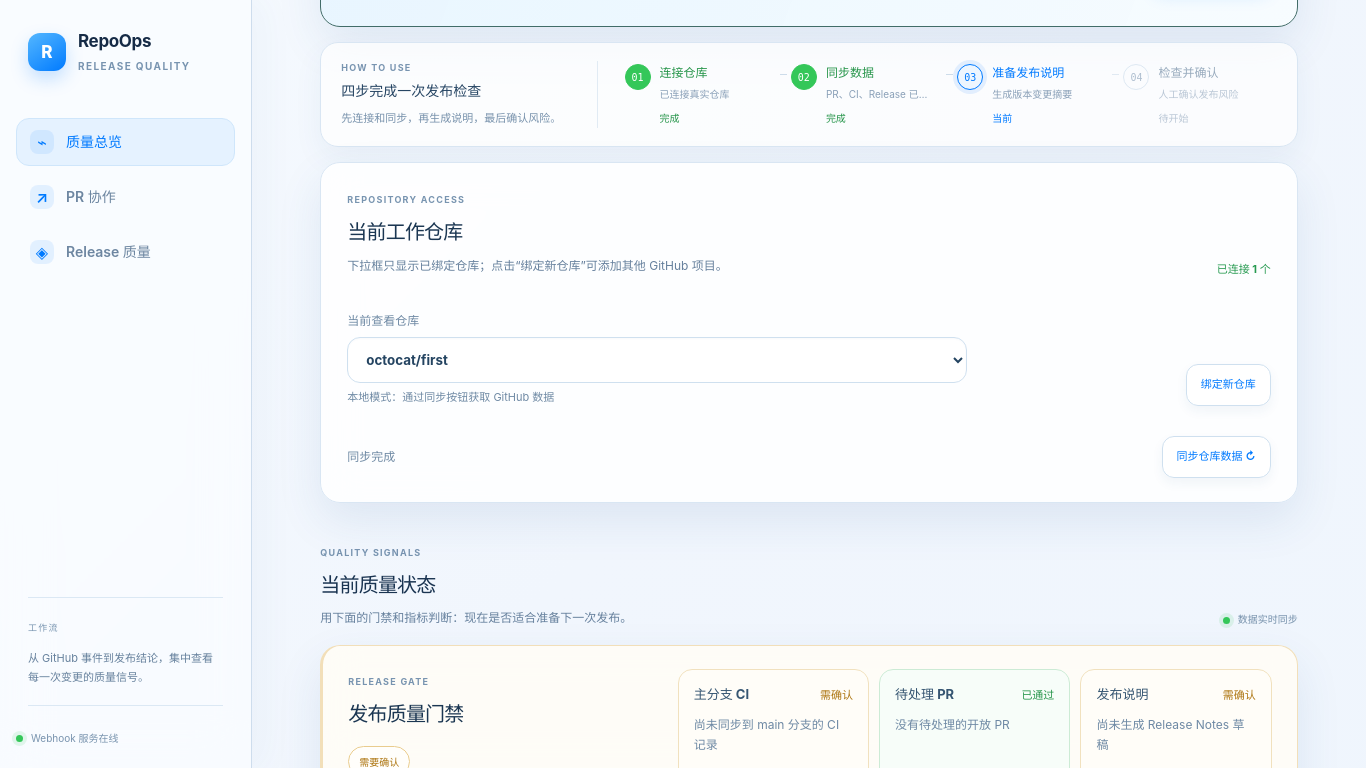
Test case: RepoOps app shell › opens the picker and binds an additional repository without losing the current list
This screenshot has width=1366, height=768.
(page scrolled)
Click the button with test id "bind-new-repository" at coordinates (1228, 385), box [1186,364,1271,406]
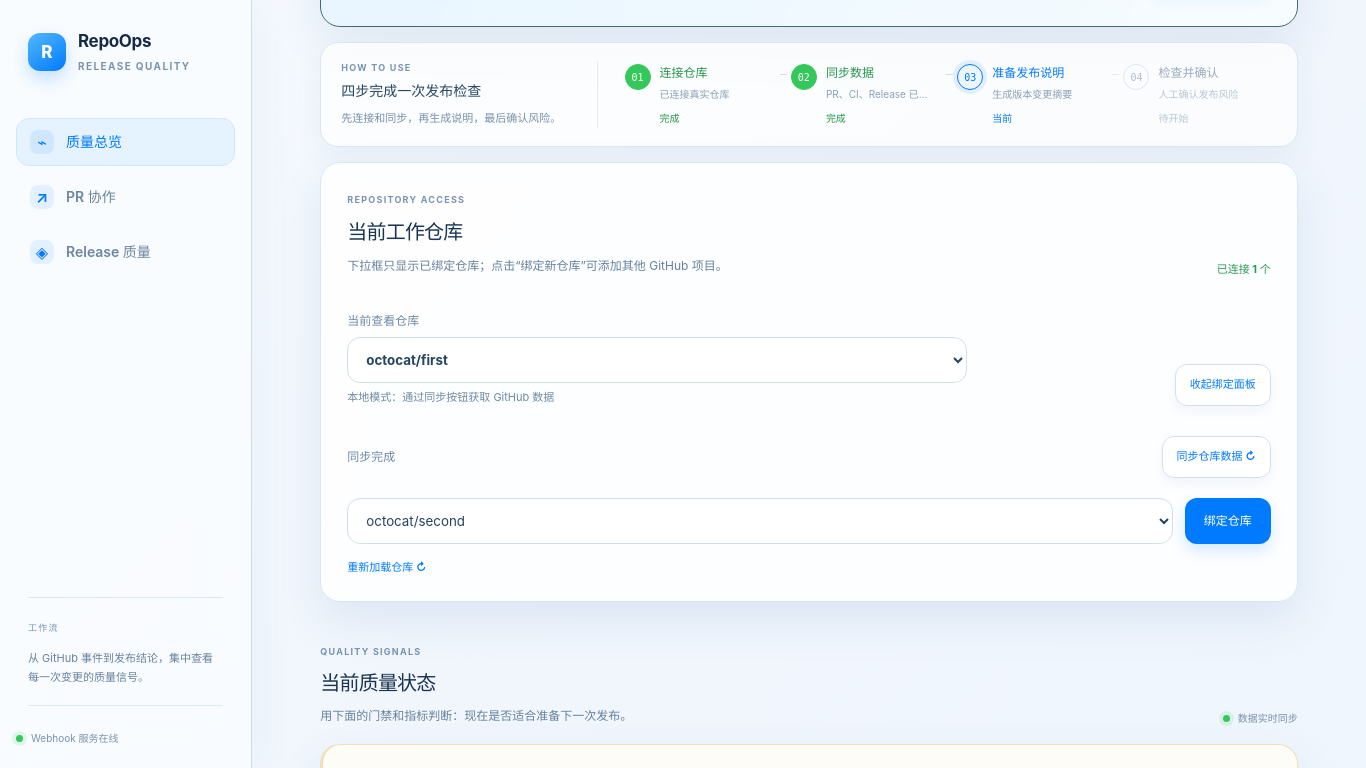
Select "octocat/second" in the dropdown named "选择 GitHub 仓库" at coordinates (760, 521), box [347,498,1173,544]
Click the button with test id "bind-repository" at coordinates (1228, 521), box [1185,498,1271,544]
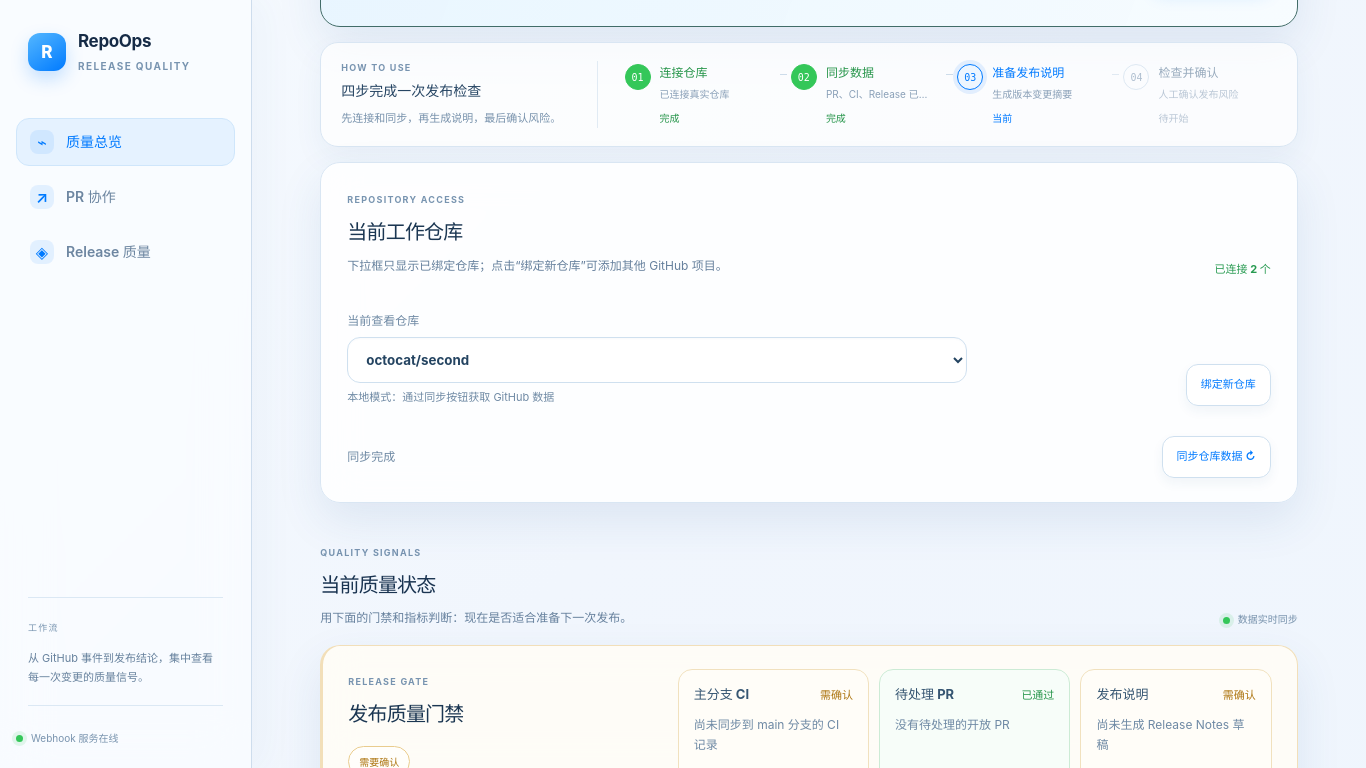
expect the dropdown with test id "bound-repository-switcher" shows "octocat/second": met, box [347,337,967,383]
